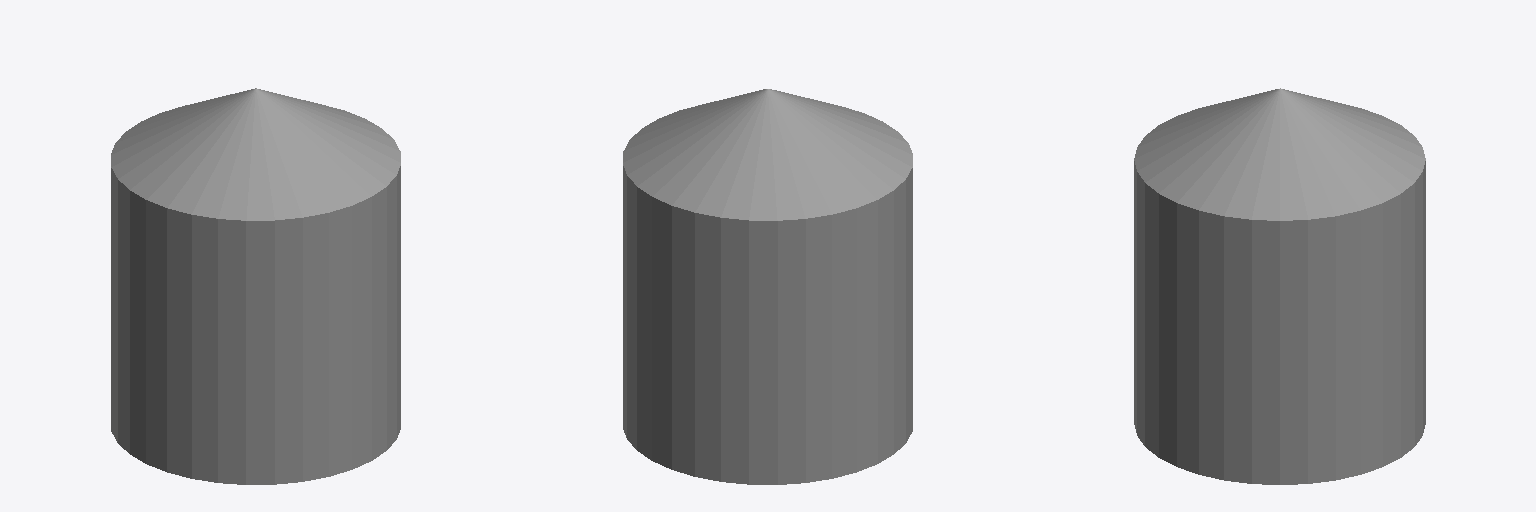
The model's file is bullet.obj.
The picture shows the model from 3 angles: view 1: azimuth 30°, elevation 25°; view 2: azimuth 150°, elevation 25°; view 3: azimuth 270°, elevation 25°; orthographic projection.
Parts seen in each view (by area): view 1: Cylinder; view 2: Cylinder; view 3: Cylinder.
Boxes of the visible parts, <box> form: Cylinder: <box>111,88,400,484</box>; Cylinder: <box>623,89,912,484</box>; Cylinder: <box>1134,88,1425,484</box>.
Bounding box in the file's own units: 2 × 2.54 × 2.